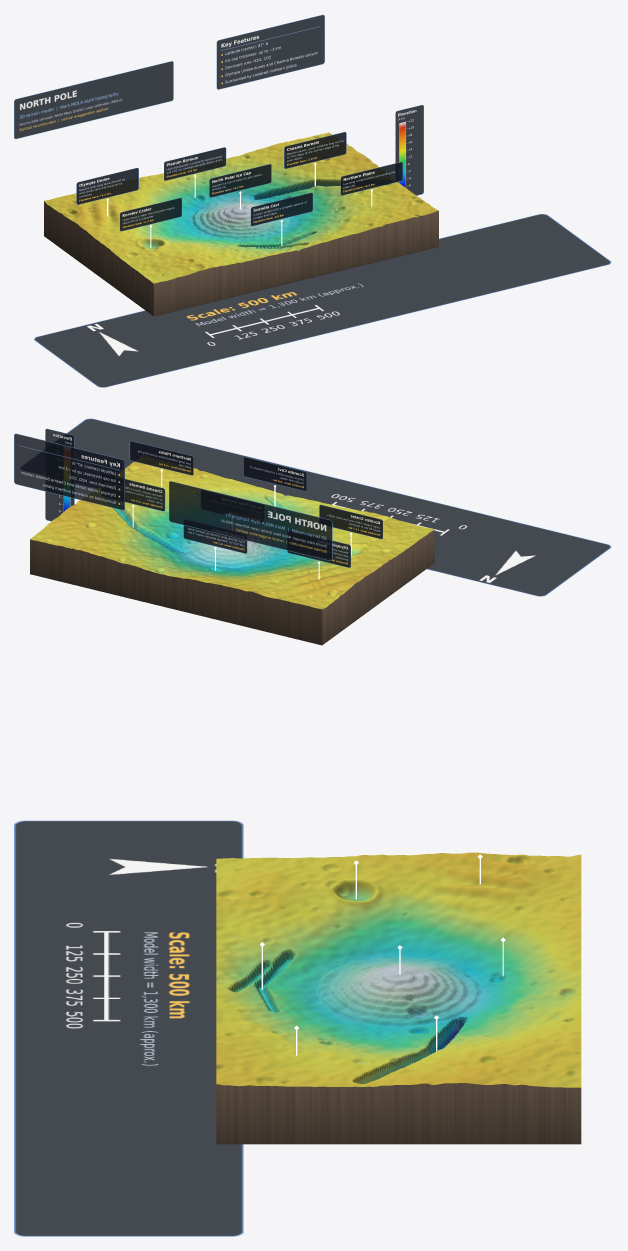
Rendered from 06_North_Pole.glb.
3 views of the same model, one above another, from view 1: azimuth 30°, elevation 25°; view 2: azimuth 150°, elevation 25°; view 3: azimuth 270°, elevation 25° (orthographic). The views are drawn at different scales.
Visible parts, largest first — view 1: Info_ScaleAndCompass, Terrain_Surface, Terrain_Walls, Info_Title, Info_KeyFeatures, Info_ElevationLegend, Label_Olympia Undae, Label_Chasma Boreale, Label_North Polar Ice Cap, Label_Northern Plains, Label_Planum Boreum, Label_Scandia Cavi (+1 smaller); view 2: Terrain_Surface, Info_ScaleAndCompass, Terrain_Walls, Info_Title, Info_KeyFeatures, Info_ElevationLegend, Label_Northern Plains, Label_Chasma Boreale, Label_Scandia Cavi, Label_Korolev Crater, Label_Planum Boreum, Label_Olympia Undae (+1 smaller); view 3: Info_ScaleAndCompass, Terrain_Surface, Terrain_Walls.
Boxes of the visible parts, x1,y1,x2,y2 form: Info_ScaleAndCompass: (34,214,611,387); Terrain_Surface: (44,132,438,283); Terrain_Walls: (44,201,438,316); Info_Title: (14,61,173,138); Info_KeyFeatures: (216,14,324,89); Info_ElevationLegend: (395,105,423,195); Label_Olympia Undae: (76,167,138,204); Label_Chasma Boreale: (284,132,346,168); Label_North Polar Ice Cap: (209,164,271,197); Label_Northern Plains: (340,162,402,195); Label_Planum Boreum: (164,147,226,180); Label_Scandia Cavi: (250,192,312,226); Terrain_Surface: (30,461,434,609); Info_ScaleAndCompass: (20,418,611,596); Terrain_Walls: (30,530,434,645); Info_Title: (169,481,332,560); Info_KeyFeatures: (14,433,124,510); Info_ElevationLegend: (45,428,74,521); Label_Northern Plains: (129,441,193,475); Label_Chasma Boreale: (102,474,165,511); Label_Scandia Cavi: (243,457,306,491); Label_Korolev Crater: (319,504,382,539); Label_Planum Boreum: (183,520,247,553); Label_Olympia Undae: (287,531,350,567); Info_ScaleAndCompass: (14,820,243,1236); Terrain_Surface: (216,852,581,1087); Terrain_Walls: (216,1083,581,1144).
Size of the model in its own units: 18 by 4.81 by 10.97.
Materials: 13 (11 with a texture image).
